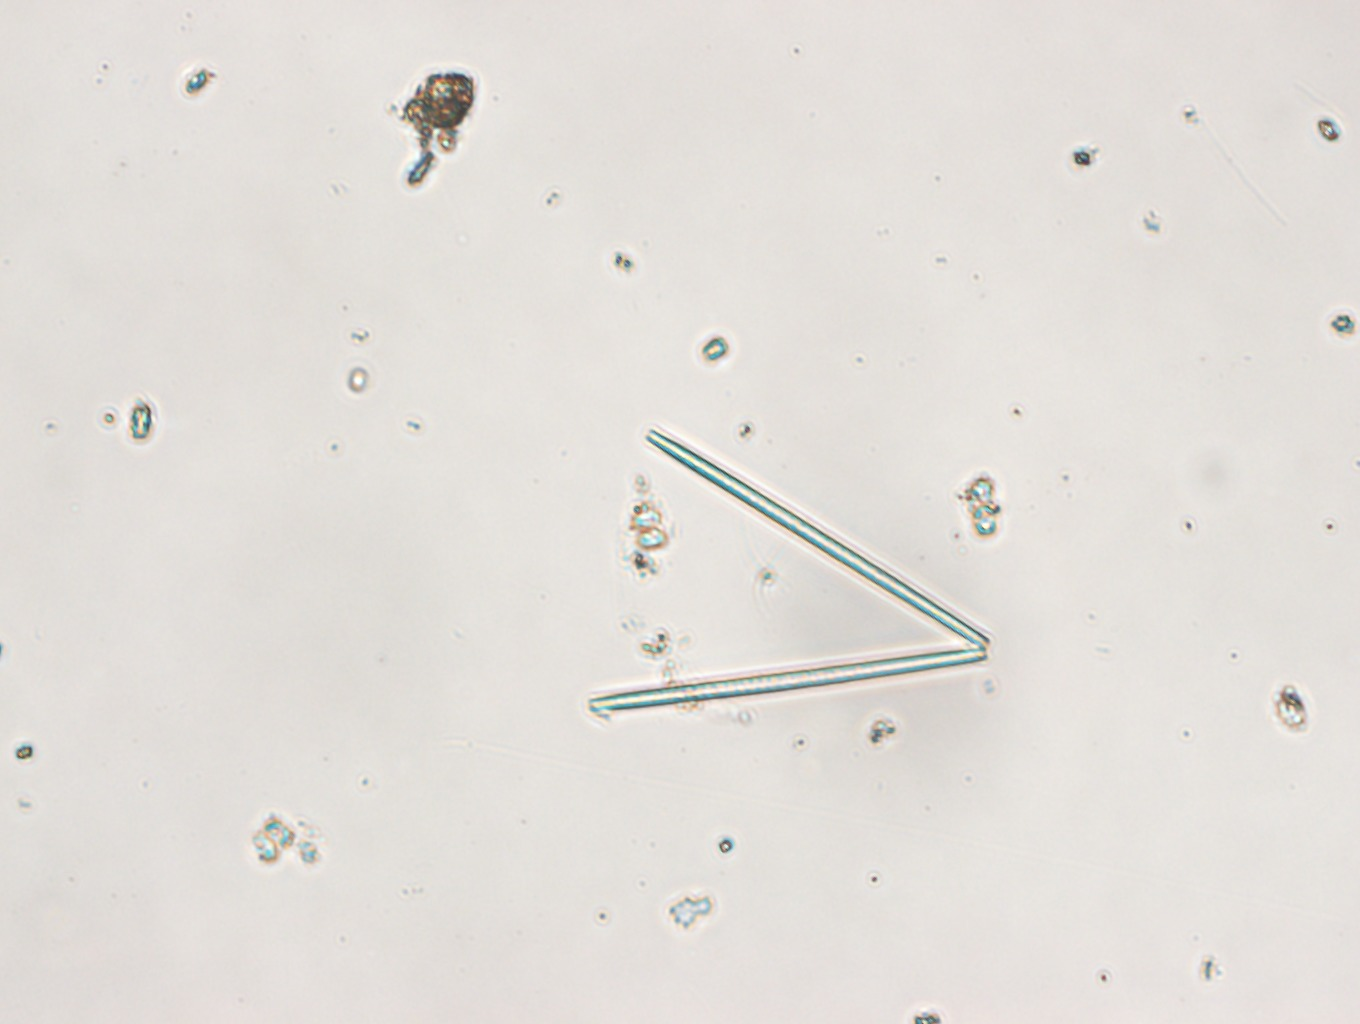thalassionema frauenfeldii: (590, 418, 1013, 722)
